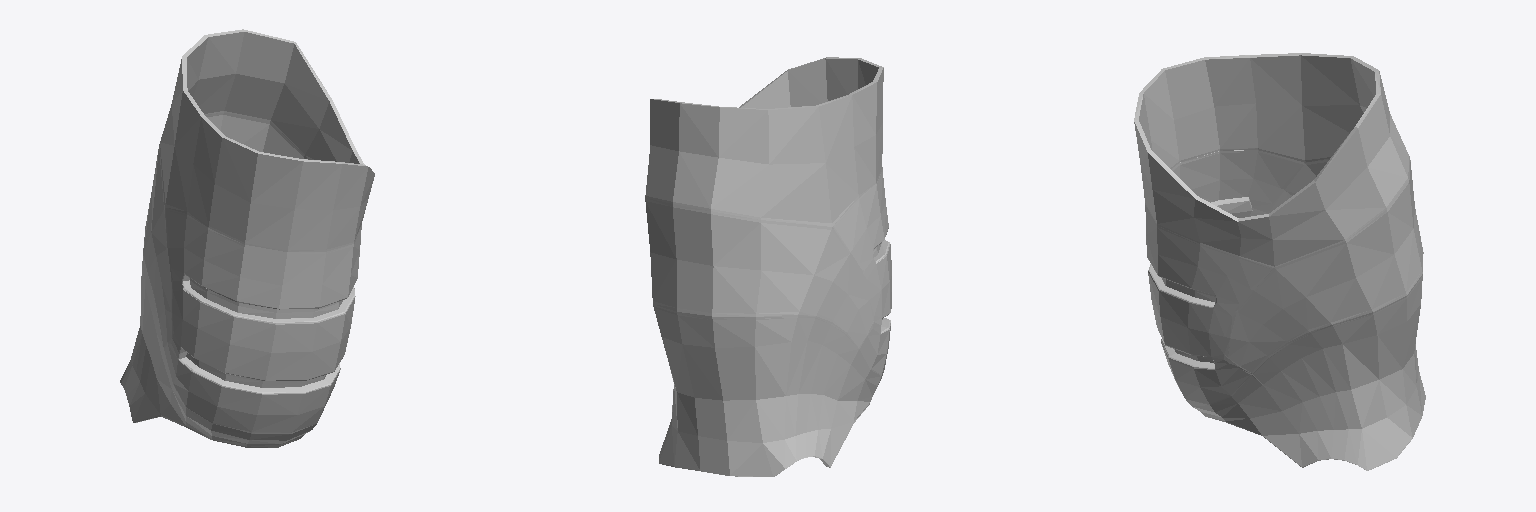
The model's file is irightu3.obj.
3 views of the same model, side by side, from view 1: azimuth 30°, elevation 25°; view 2: azimuth 150°, elevation 25°; view 3: azimuth 270°, elevation 25° (orthographic).
Visible parts, largest first — view 1: HD_Ironman:polySurface2610_polySurface3589; view 2: HD_Ironman:polySurface2610_polySurface3589; view 3: HD_Ironman:polySurface2610_polySurface3589.
Part boxes in pixels (bbox=[...]): HD_Ironman:polySurface2610_polySurface3589: bbox=[120, 29, 374, 447]; HD_Ironman:polySurface2610_polySurface3589: bbox=[645, 57, 891, 476]; HD_Ironman:polySurface2610_polySurface3589: bbox=[1134, 53, 1425, 470].
Bounding box in the file's own units: 1.43 × 2.66 × 1.9.